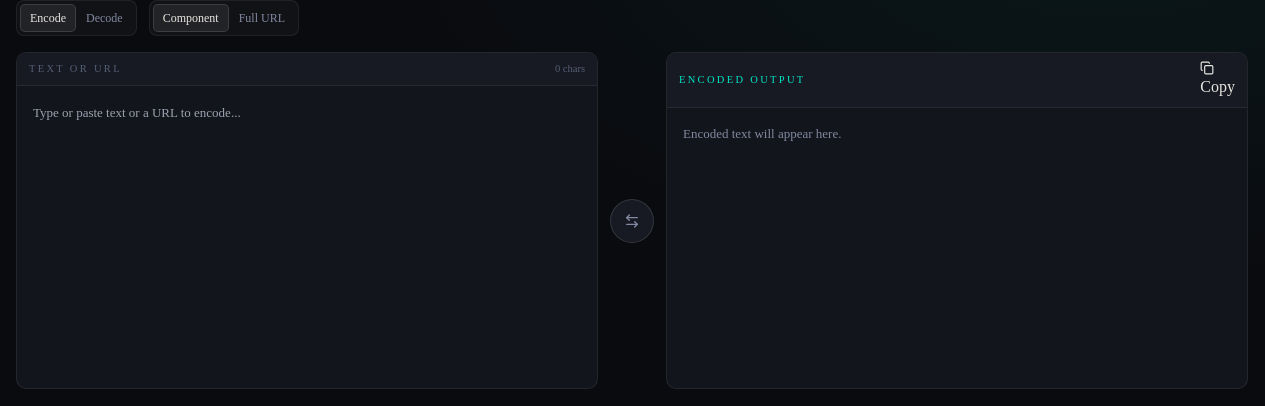
Scenario: UrlEncoderClient tabs › disables Swap and preserves invalid input when the command runs
Click the tab "Decode" at point(104, 18), box [76,4,133,32]
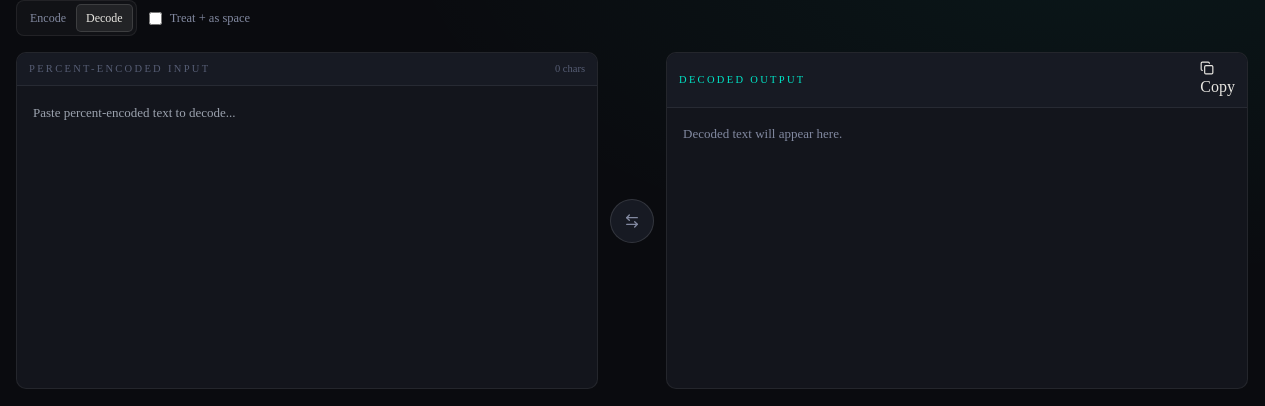
Type "Save 50% today" into the text box labelled "percent-encoded text to decode" at point(307, 237), box [17,86,597,388]
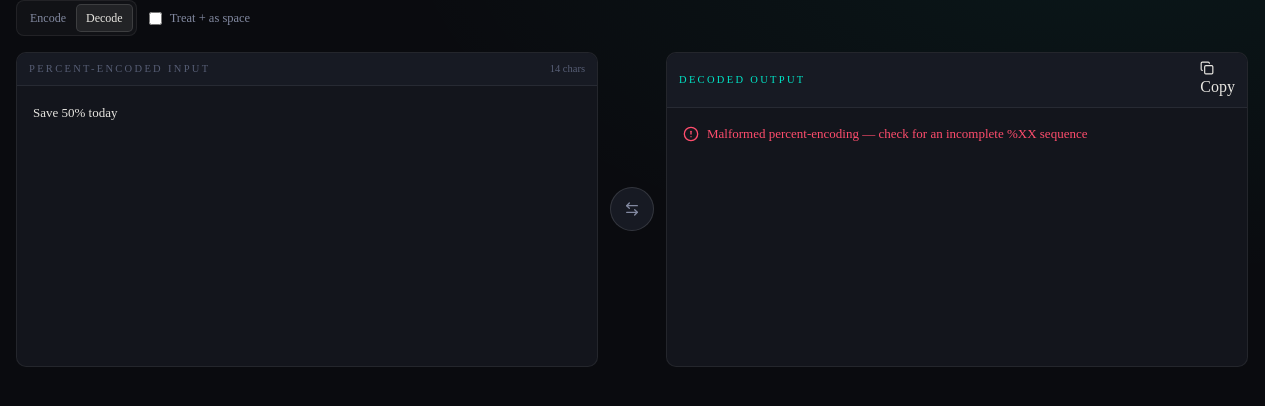
Check: the button named "Swap direction" is disabled, box [610,187,654,231]
Check: the message shows "Malformed percent-encoding", box [707,126,1088,141]
